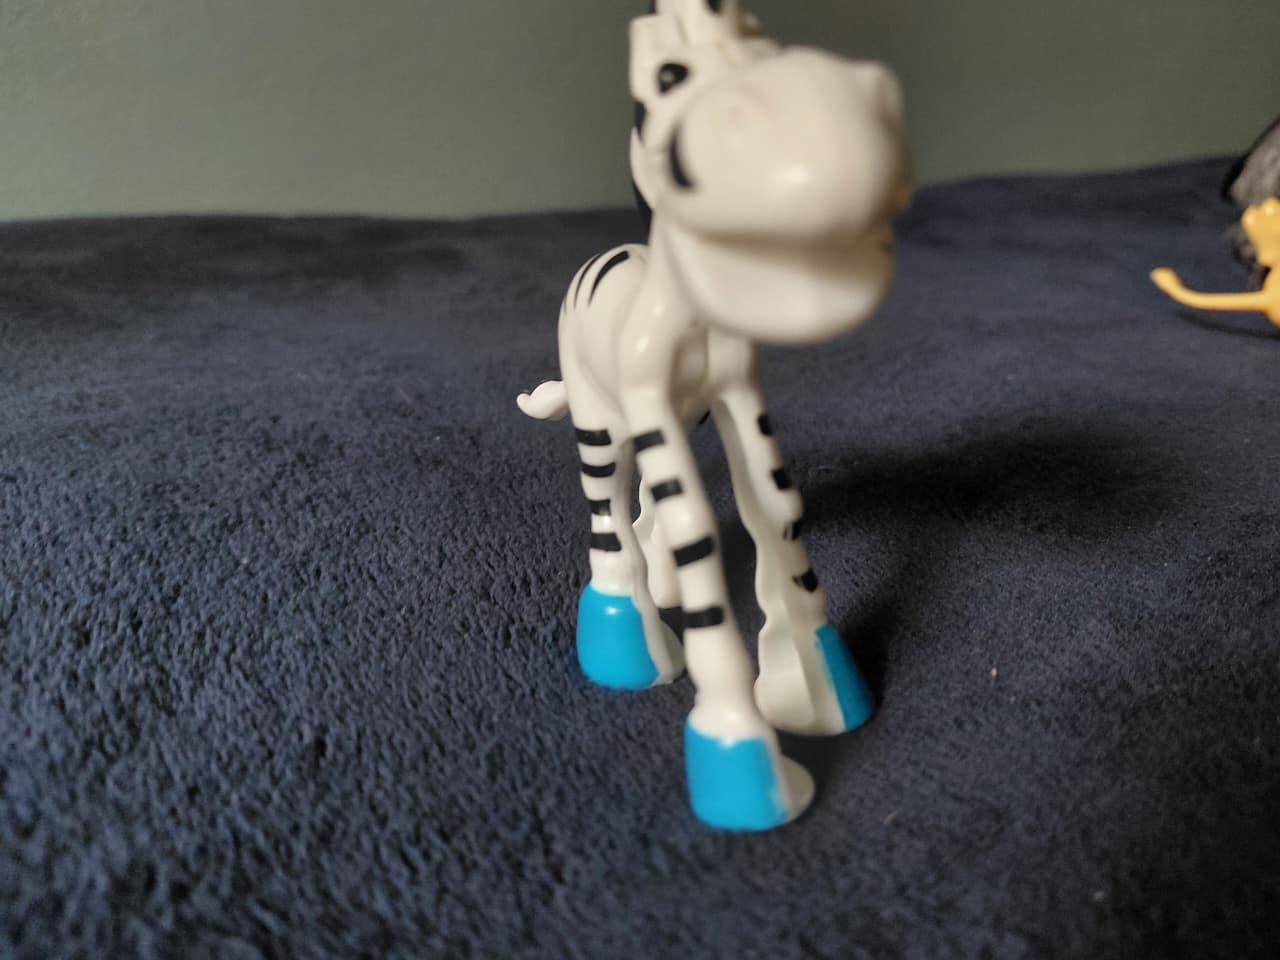zebra: (504, 0, 923, 842)
